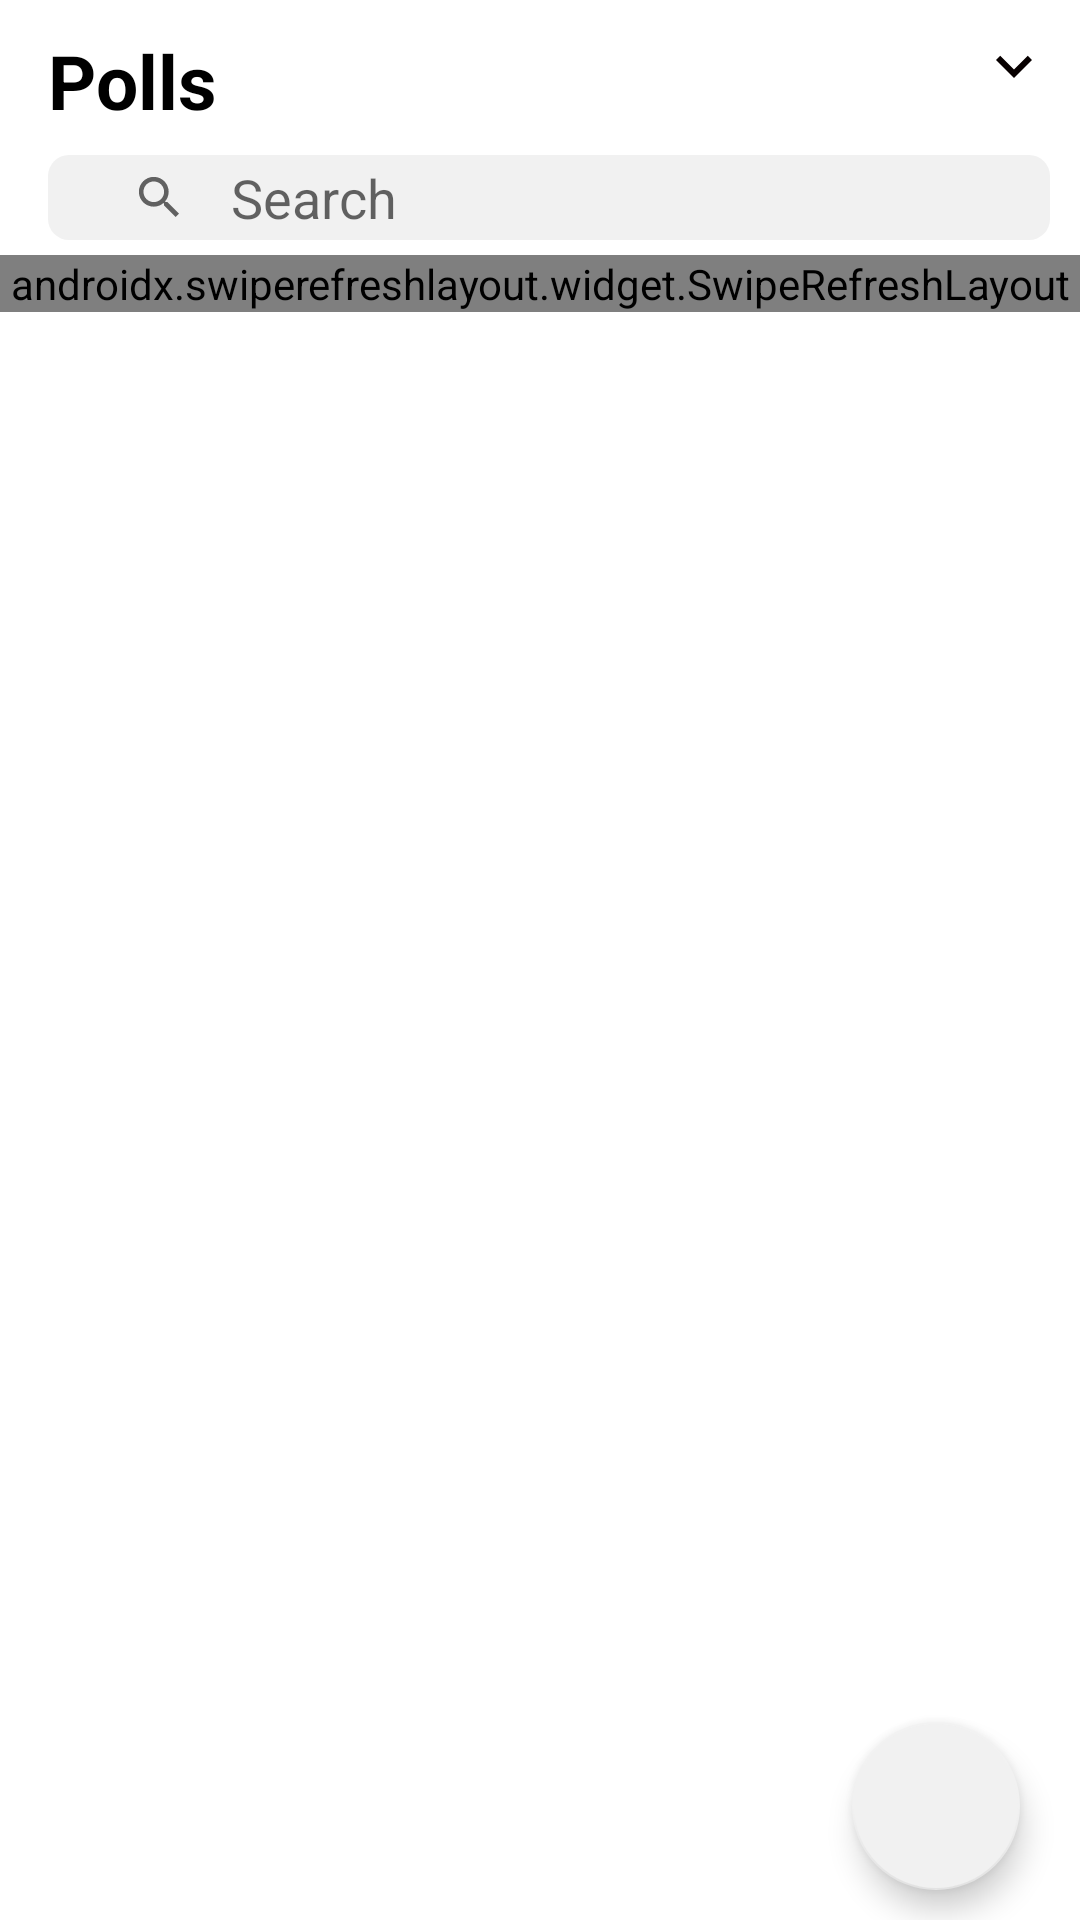

Where icons sit on this 1080px×1920px app screen, as (x1, y1, x2, y2):
expand more: (996, 56, 1032, 78)
